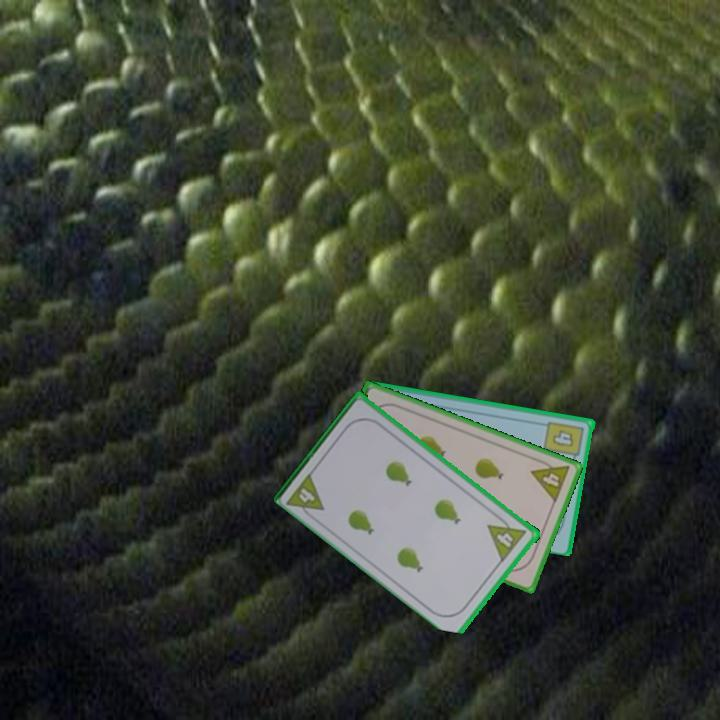4b: (541, 418, 587, 465)
4p: (528, 454, 573, 505), (485, 524, 519, 562), (295, 484, 319, 506)
